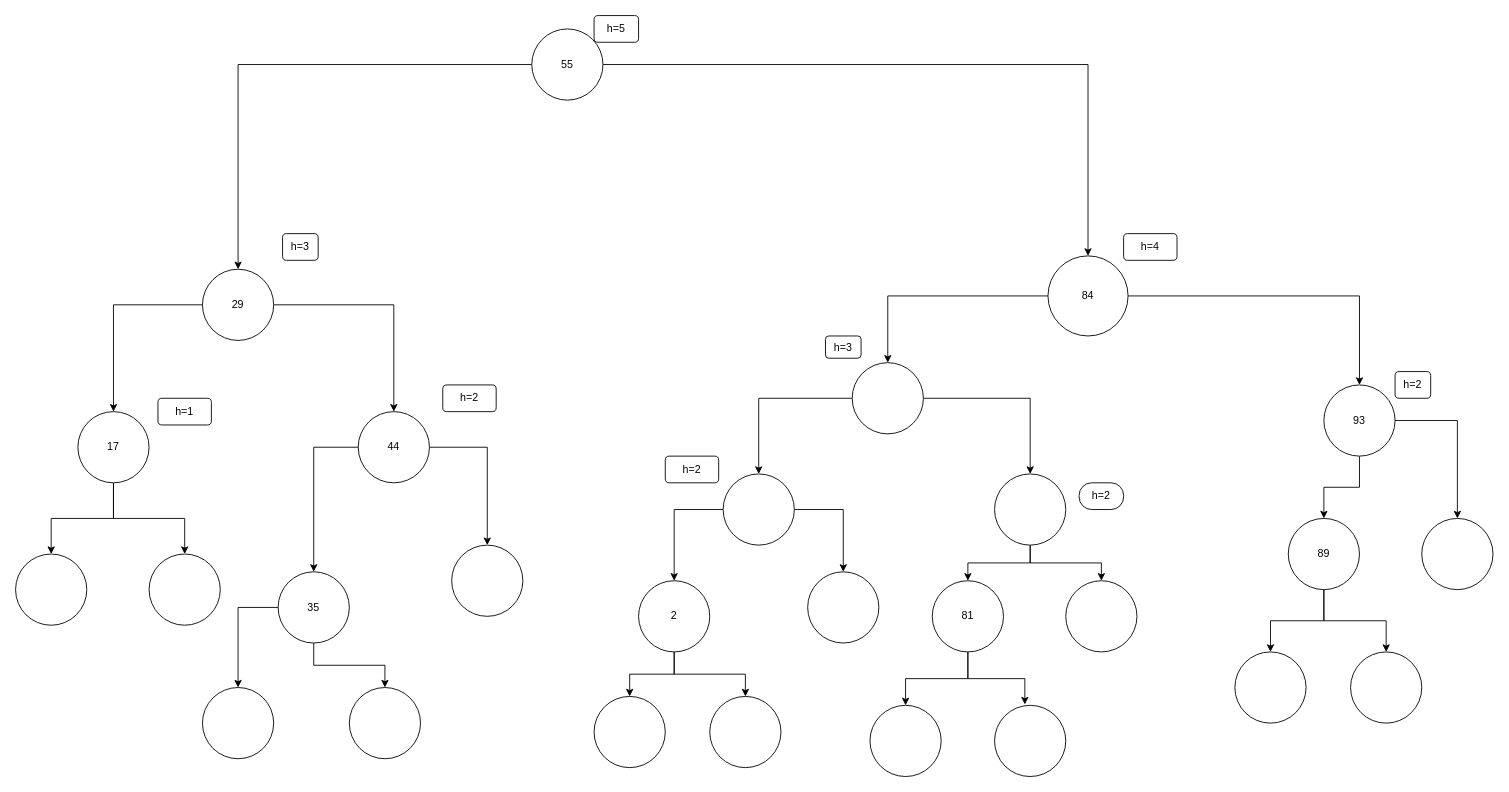
Image size: 1509x792. Some labels were removed from this diagram. The centre of each missing label's shape, as x and y in pixels:
"62 a=z" goes at point (758, 509).
"75 b=x" goes at point (887, 398).
"82 c=y" goes at point (1030, 509).
